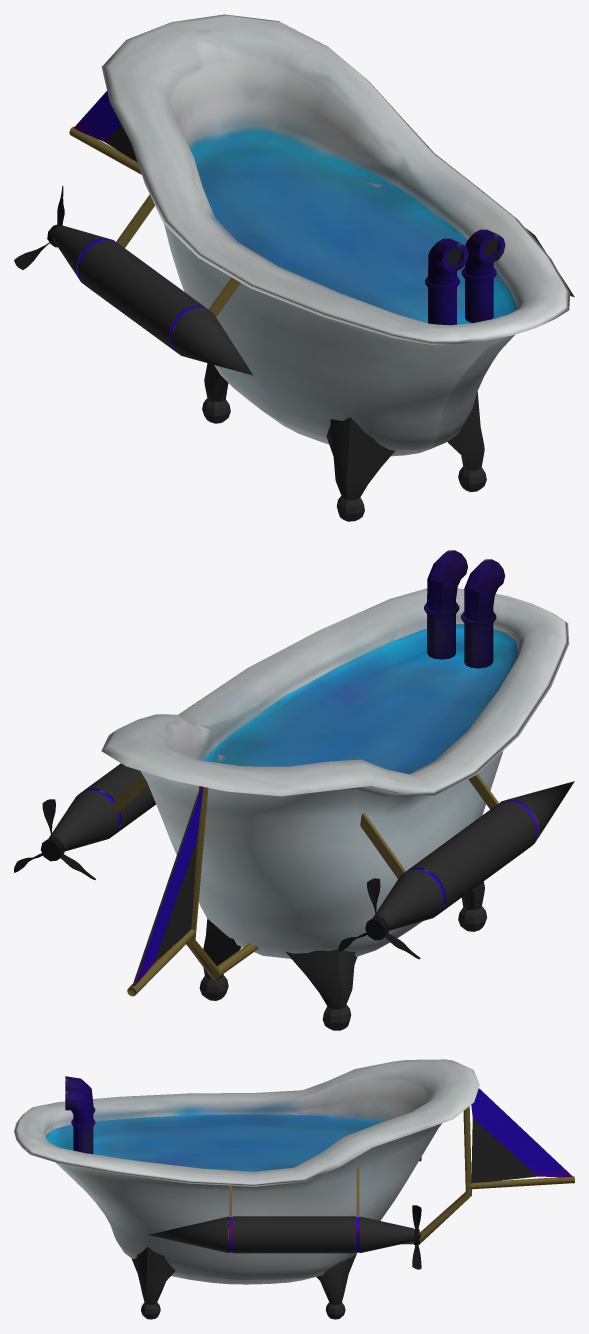
File: Bathtub with Texture (Current).fbx
3 views of the same model, one above another, from view 1: azimuth 30°, elevation 25°; view 2: azimuth 150°, elevation 25°; view 3: azimuth 270°, elevation 25° (orthographic). The views are drawn at different scales.
Parts seen in each view (by area): view 1: Tub_Body, Engine_2, Legs_Wheels, Cylinder001, Cylinder002, Sail, Engine_Supports_2, Rudder_Spine_2; view 2: Tub_Body, Engine_2, Legs_Wheels, Engine_3, Sail, Cylinder002, Cylinder001, Rudder_Spine_1, Engine_Supports_2, Rudder_Spine_2; view 3: Tub_Body, Engine_3, Sail, Legs_Wheels, Cylinder001, Rudder_Spine_1, Rudder_Spine_2, Cylinder002.
Boxes of the visible parts, bbox=[...] form: Tub_Body: bbox=[101, 14, 570, 456]; Engine_2: bbox=[52, 225, 253, 375]; Legs_Wheels: bbox=[202, 363, 486, 521]; Cylinder001: bbox=[461, 229, 505, 322]; Cylinder002: bbox=[425, 238, 468, 325]; Sail: bbox=[74, 91, 137, 162]; Engine_Supports_2: bbox=[116, 194, 240, 317]; Rudder_Spine_2: bbox=[69, 126, 141, 174]; Tub_Body: bbox=[101, 588, 569, 958]; Engine_2: bbox=[373, 781, 574, 930]; Legs_Wheels: bbox=[199, 881, 487, 1030]; Engine_3: bbox=[48, 763, 155, 851]; Sail: bbox=[132, 786, 202, 986]; Cylinder002: bbox=[461, 559, 504, 668]; Cylinder001: bbox=[424, 550, 467, 659]; Rudder_Spine_1: bbox=[186, 786, 258, 979]; Engine_Supports_2: bbox=[360, 774, 498, 878]; Rudder_Spine_2: bbox=[127, 929, 196, 996]; Tub_Body: bbox=[14, 1059, 479, 1284]; Engine_3: bbox=[148, 1216, 413, 1253]; Sail: bbox=[471, 1088, 572, 1182]; Legs_Wheels: bbox=[131, 1247, 356, 1319]; Cylinder001: bbox=[65, 1088, 95, 1154]; Rudder_Spine_1: bbox=[401, 1106, 471, 1244]; Rudder_Spine_2: bbox=[469, 1176, 574, 1189]; Cylinder002: bbox=[65, 1076, 95, 1114].
Bounding box in the file's own units: 140 × 104 × 245.
